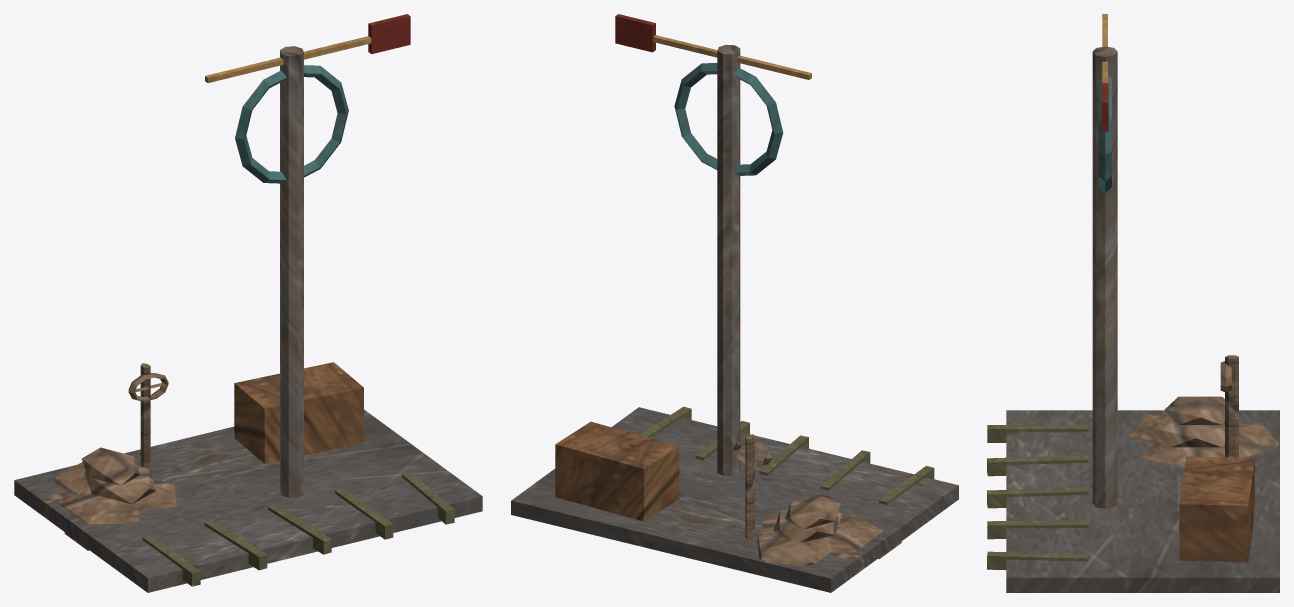
Rendered from seed-row-weather-station.glb.
The picture shows the model from 3 angles, left to right: view 1: azimuth 30°, elevation 25°; view 2: azimuth 150°, elevation 25°; view 3: azimuth 270°, elevation 25°; orthographic projection. The views are drawn at different scales.
Parts seen in each view (by area): view 1: seed-row-weather-station; view 2: seed-row-weather-station; view 3: seed-row-weather-station.
Boxes of the visible parts, x1,y1,x2,y2 form: seed-row-weather-station: (14, 14, 482, 592); seed-row-weather-station: (511, 14, 958, 592); seed-row-weather-station: (987, 14, 1279, 592).
Size of the model in its own units: 4.7 by 6.3 by 3.48.
1 material, 1 textured.
